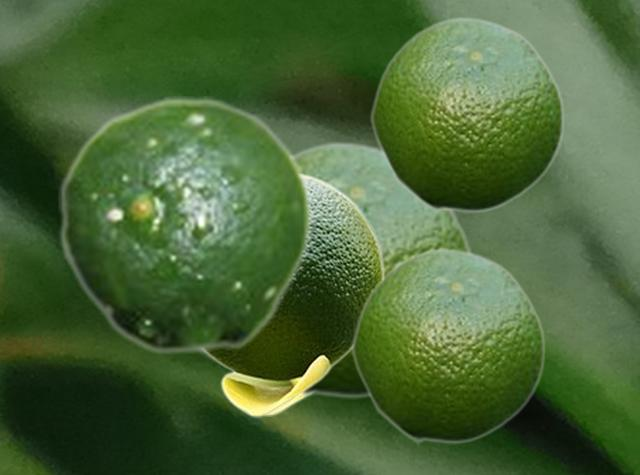calamansi: (58, 96, 313, 355), (293, 139, 472, 398), (205, 171, 384, 416), (350, 246, 545, 443), (369, 15, 564, 212)
